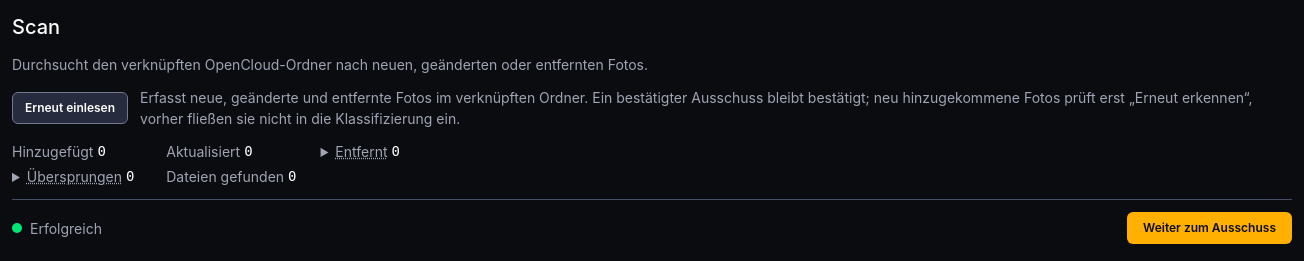
Scenario: ScanStepPage › zeigt nach dem Auslösen sofort den laufenden Statuspunkt und ein Ladezeichen am Erneut-Knopf
What coordinates should you click on to do the following:
click the button "Erneut einlesen"
I would click on:
 (70, 108)
Its box is [12,92,128,124].
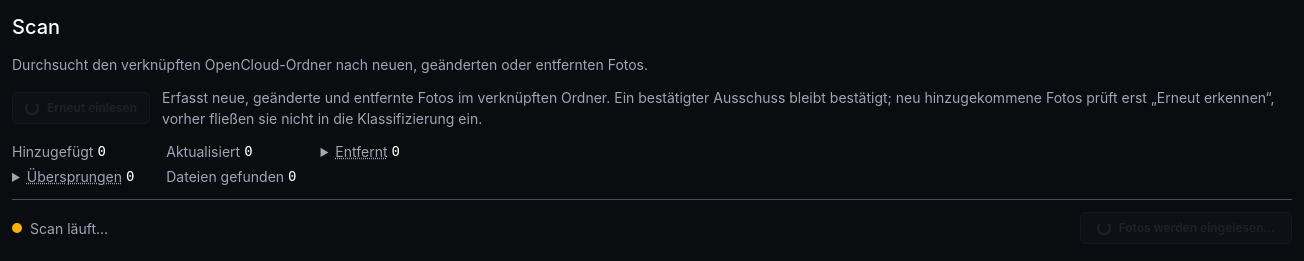
Now the button "Erneut einlesen" is disabled, box [12,92,150,124]
